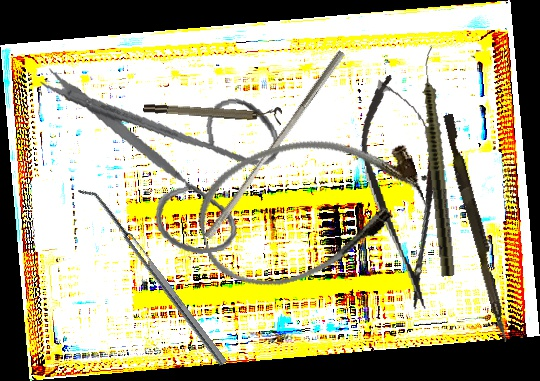Cannula: (184, 111, 437, 303)
Fixation Ring: (142, 95, 283, 127)
Handpiece: (416, 45, 459, 277)
Iris Scissors: (34, 37, 294, 274)
Micro Scissor: (351, 70, 457, 315)
Pusher: (203, 44, 346, 245), (437, 113, 517, 343)
Spatula Surgical: (77, 180, 228, 372)
